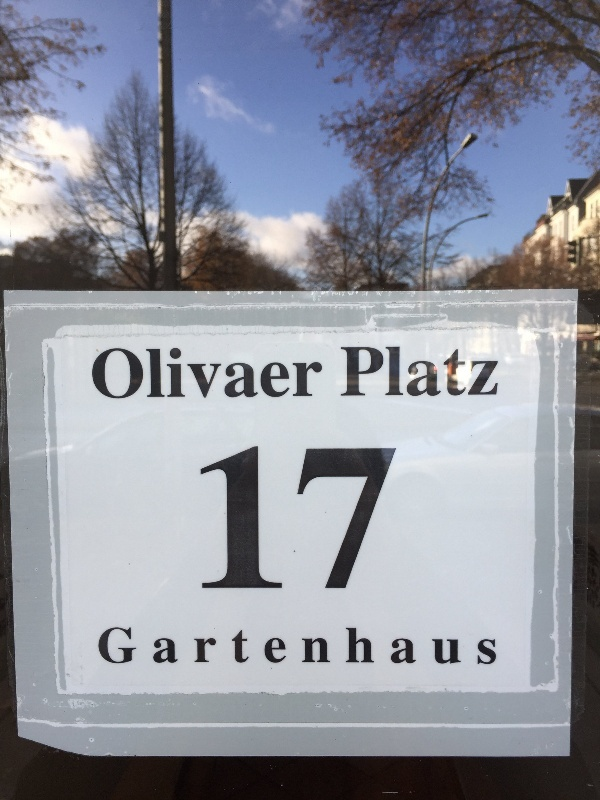text: (209, 442, 224, 589), (225, 442, 240, 589), (241, 442, 256, 589), (257, 442, 272, 589), (273, 442, 288, 589), (289, 442, 304, 589), (305, 442, 320, 589), (321, 442, 336, 589), (337, 442, 352, 589), (353, 442, 368, 589), (369, 442, 384, 589), (385, 442, 397, 589), (201, 442, 208, 589), (97, 344, 112, 401), (113, 344, 128, 401), (129, 344, 144, 401), (145, 344, 160, 401), (161, 344, 176, 401), (177, 344, 192, 401), (193, 344, 208, 401), (209, 344, 224, 401), (225, 344, 240, 401), (241, 344, 256, 401), (257, 344, 272, 401), (273, 344, 288, 401), (289, 344, 304, 401), (305, 344, 320, 401), (353, 344, 368, 397), (369, 344, 384, 397), (385, 344, 400, 397), (401, 344, 416, 397), (417, 344, 432, 397), (433, 344, 448, 397), (449, 344, 464, 397), (465, 344, 480, 397), (481, 344, 496, 397), (113, 626, 128, 667), (129, 626, 144, 667), (145, 626, 160, 667), (161, 626, 176, 667), (177, 626, 192, 667), (193, 626, 208, 667), (209, 626, 224, 667), (225, 626, 240, 667), (241, 626, 256, 667), (257, 626, 272, 667), (273, 626, 288, 667), (289, 626, 304, 667), (305, 626, 320, 667), (321, 626, 336, 667), (337, 626, 352, 667), (353, 626, 368, 667), (369, 626, 384, 667), (385, 626, 400, 667), (401, 626, 416, 667), (417, 626, 432, 667), (433, 626, 448, 667), (449, 626, 464, 667), (465, 626, 480, 667), (481, 626, 496, 667), (341, 344, 352, 397), (98, 626, 112, 667), (497, 344, 501, 397), (321, 344, 324, 401), (94, 344, 96, 401), (497, 626, 498, 667)
